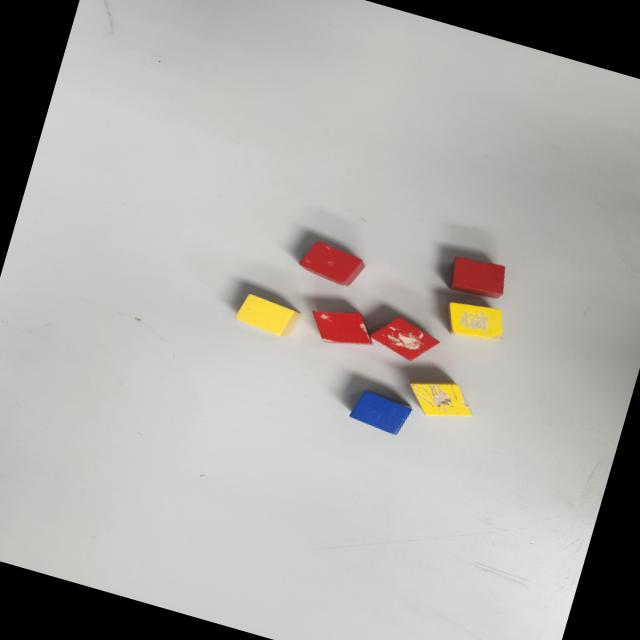blue: (346, 386, 414, 436)
broken: (366, 311, 444, 368), (304, 300, 381, 356), (402, 371, 478, 427), (295, 237, 368, 290), (440, 296, 508, 348)
red: (444, 252, 511, 304)
yellow: (232, 292, 299, 340)
